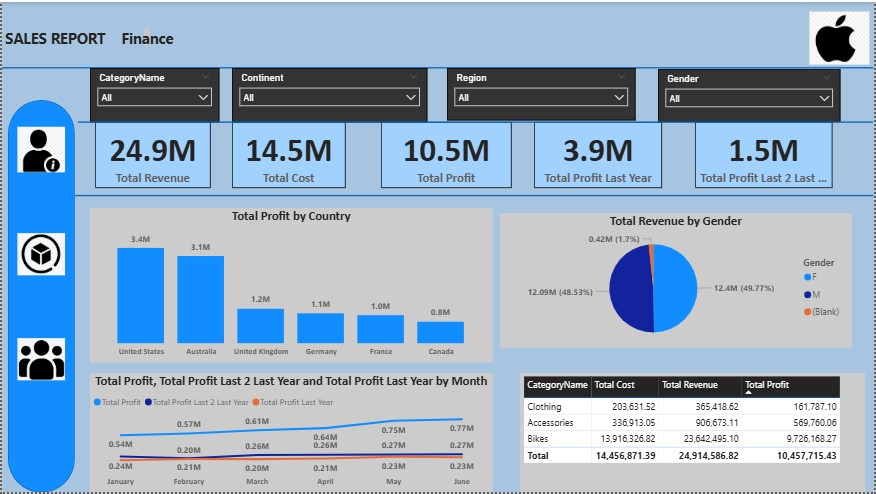

This screenshot's page, from the dashboard's own definition file:
{"tool":"powerbi","page":{"name":"Dashboard_Finance","canvas":[1280,720],"ordinal":3},"visuals":[{"type":"shape","box":[0,0,1280,193.3],"z":0},{"type":"textbox","box":[0,33.3,221.7,36.7],"z":1000},{"type":"textbox","box":[170,33.3,116.7,43.3],"z":2000},{"type":"image","box":[1181.7,0,98.3,106.7],"z":3000},{"type":"shape","box":[8.3,143.3,98.3,576.7],"z":4000},{"type":"image","box":[18.3,176.7,80,80],"z":5000},{"type":"image","box":[18.3,330.8,80,80],"z":6000},{"type":"image","box":[18.3,485,80,80],"z":7000},{"type":"shape","box":[106.7,60,1173.3,448.3],"z":8000},{"type":"card","fields":{"Values":["KeyMeasure.Total Revenue"]},"box":[136.7,176.7,170,96.7],"z":9000},{"type":"card","fields":{"Values":["KeyMeasure.Total Cost"]},"box":[338.3,176.7,166.7,96.7],"z":10000},{"type":"card","fields":{"Values":["KeyMeasure.Total Profit Last Year"]},"box":[781.7,176.7,188.3,96.7],"z":11000},{"type":"card","fields":{"Values":["KeyMeasure.Total Profit"]},"box":[556.7,176.7,191.7,96.7],"z":12000},{"type":"card","fields":{"Values":["KeyMeasure.Total Profit Last 2 Last Year"]},"box":[1018.3,176.7,201.7,96.7],"z":13000},{"type":"columnChart","fields":{"Category":["Territory.Country"],"Y":["KeyMeasure.Total Profit"]},"box":[130,303.3,591.7,226.7],"z":14000},{"type":"pieChart","fields":{"Category":["Customer.Gender"],"Y":["KeyMeasure.Total Revenue"]},"box":[731.7,310,516.7,198.3],"z":15000},{"type":"lineChart","fields":{"Y":["KeyMeasure.Total Profit","KeyMeasure.Total Profit Last 2 Last Year","KeyMeasure.Total Profit Last Year"],"Category":["Calendar_Min_Max.Date.Variation.Date Hierarchy.Month"]},"box":[130,545,591.7,175],"z":16000},{"type":"tableEx","fields":{"Values":["ProductCategory.CategoryName","KeyMeasure.Total Cost","KeyMeasure.Total Revenue","KeyMeasure.Total Profit"]},"box":[761.7,545,506.7,175],"z":17000},{"type":"slicer","fields":{"Values":["ProductCategory.CategoryName"]},"box":[130,96.7,190,80],"z":18000},{"type":"slicer","fields":{"Values":["Territory.Continent"]},"box":[338.3,96.7,286.7,80],"z":19000},{"type":"slicer","fields":{"Values":["Customer.Gender"]},"box":[963.3,98.3,268.3,78.3],"z":20000},{"type":"slicer","fields":{"Values":["Territory.Region"]},"box":[653.3,96.7,276.7,76.7],"z":21000},{"type":"shape","box":[111.7,26.7,1168.3,300],"z":22000}]}

Visuals, with their boxes in screenshot pixels (x1, y1, x2, y2), scaled from the page's 1280x720 canvas onto the 876x494 screenshot:
shape: 0, 0, 875, 133
textbox: 0, 23, 152, 48
textbox: 116, 23, 196, 53
image: 809, 0, 875, 73
shape: 6, 98, 73, 493
image: 13, 121, 67, 176
image: 13, 227, 67, 282
image: 13, 333, 67, 388
shape: 73, 41, 875, 349
card - KeyMeasure.Total Revenue: 94, 121, 210, 188
card - KeyMeasure.Total Cost: 232, 121, 346, 188
card - KeyMeasure.Total Profit Last Year: 535, 121, 664, 188
card - KeyMeasure.Total Profit: 381, 121, 512, 188
card - KeyMeasure.Total Profit Last 2 Last Year: 697, 121, 835, 188
columnChart - Territory.Country x KeyMeasure.Total Profit: 89, 208, 494, 364
pieChart - Customer.Gender x KeyMeasure.Total Revenue: 501, 213, 854, 349
lineChart - KeyMeasure.Total Profit x KeyMeasure.Total Profit Last 2 Last Year: 89, 374, 494, 493
tableEx - ProductCategory.CategoryName x KeyMeasure.Total Cost: 521, 374, 868, 493
slicer - ProductCategory.CategoryName: 89, 66, 219, 121
slicer - Territory.Continent: 232, 66, 428, 121
slicer - Customer.Gender: 659, 67, 843, 121
slicer - Territory.Region: 447, 66, 636, 119
shape: 76, 18, 875, 224
